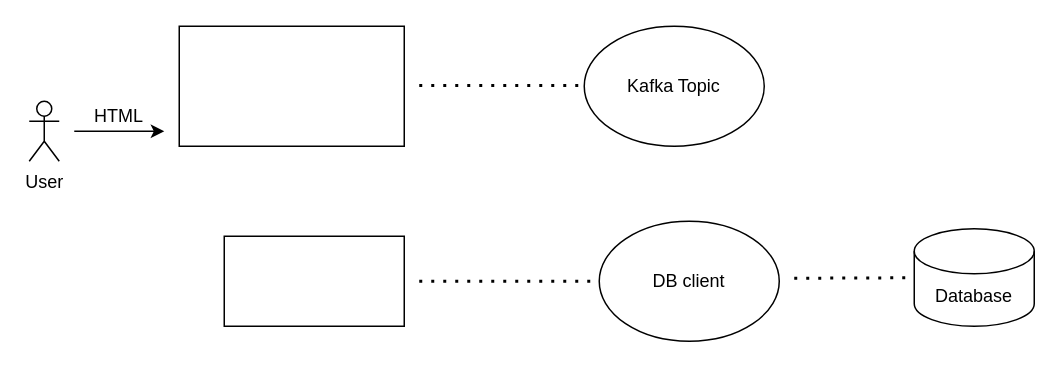
Image size: 1061x368. Some labels were removed from this diagram. The shapes that lost their labels are listed below. From the top down, each one's box as (x1, y1, x2, y2) in pixels, then its label:
(178, 25, 404, 146): Spring Program Kafka Producer / Rest Controller
(223, 235, 404, 326): Kafka Consumer
